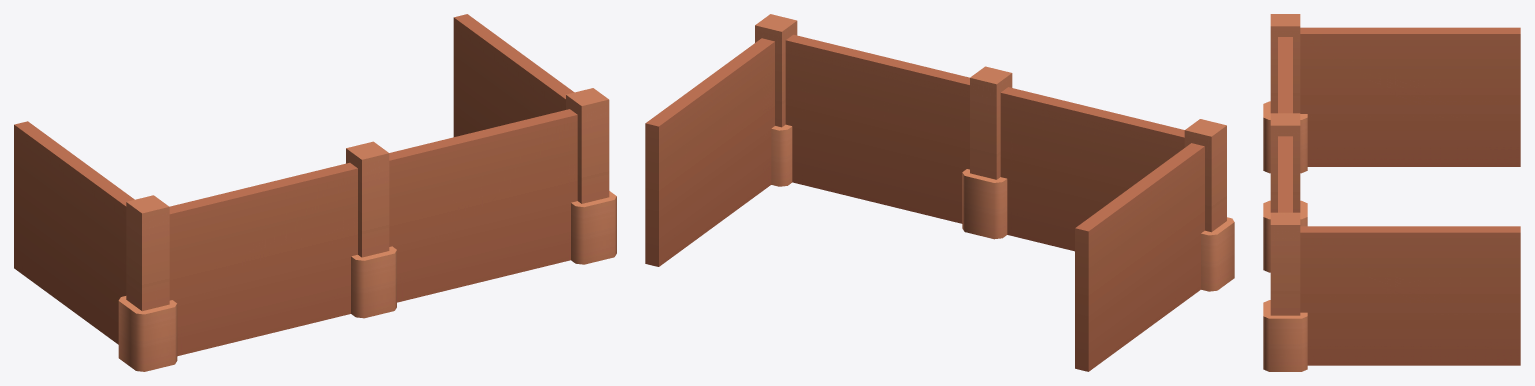
The model's file is fence-1x2.draco.glb.
3 views of the same model, side by side, from view 1: azimuth 30°, elevation 25°; view 2: azimuth 150°, elevation 25°; view 3: azimuth 270°, elevation 25° (orthographic). The views are drawn at different scales.
Visible parts, largest first — view 1: fence-1x2; view 2: fence-1x2; view 3: fence-1x2.
Boxes of the visible parts, x1,y1,x2,y2 form: fence-1x2: [14, 14, 616, 371]; fence-1x2: [645, 14, 1234, 371]; fence-1x2: [1263, 14, 1520, 371].
Size of the model in its own units: 0.875 by 0.27 by 0.4375.
1 material, 1 textured.
